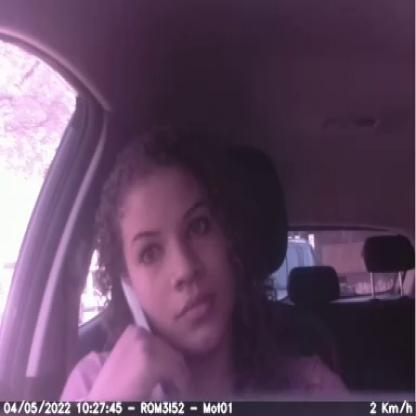phone: (107, 269, 180, 400)
